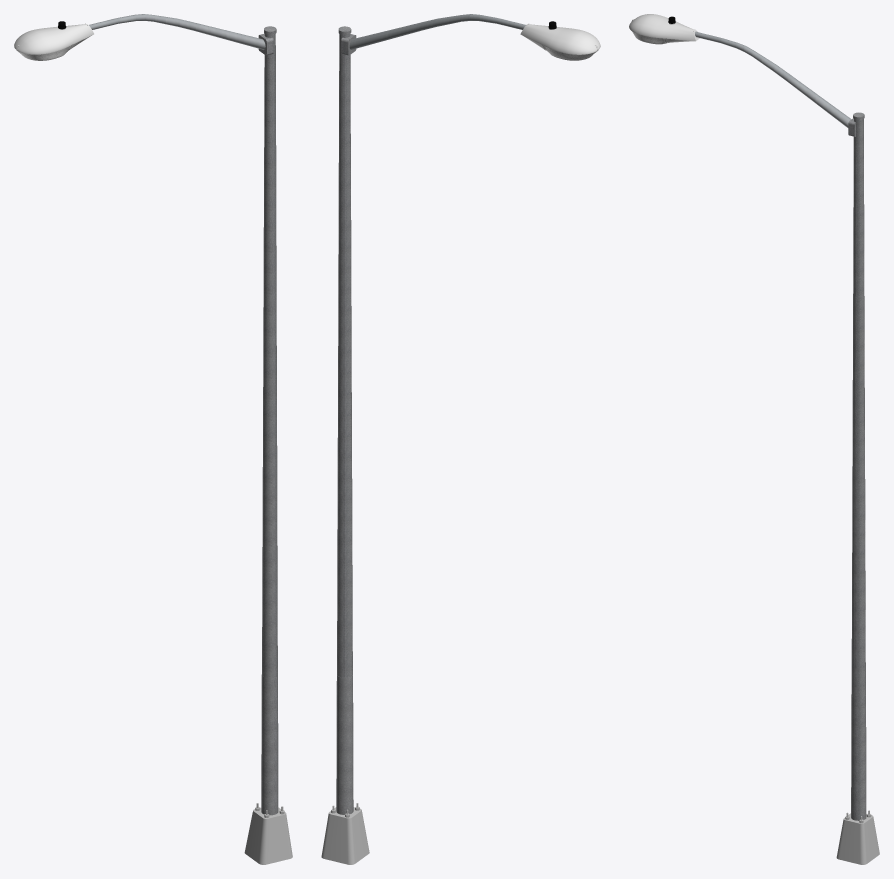
File: streetlight.fbx
3 views of the same model, side by side, from view 1: azimuth 30°, elevation 25°; view 2: azimuth 150°, elevation 25°; view 3: azimuth 330°, elevation 25° (orthographic). The views are drawn at different scales.
Visible parts, largest first — view 1: ID849, group_58, group_56, group_63; view 2: ID849, group_58, group_56, group_63; view 3: ID849, group_58, group_63, group_56.
Part boxes in pixels (box(x1,y1,x2,y2)): ID849: box(261, 26, 278, 815); group_58: box(244, 807, 292, 864); group_56: box(14, 24, 93, 54); group_63: box(89, 14, 265, 49); ID849: box(336, 26, 353, 814); group_58: box(321, 807, 369, 864); group_56: box(520, 24, 600, 54); group_63: box(349, 14, 525, 49); ID849: box(851, 112, 866, 820); group_58: box(836, 813, 879, 864); group_63: box(695, 31, 851, 127); group_56: box(629, 14, 699, 41).
Bounding box in the file's own units: 2.38 × 7.47 × 0.3408.
Materials: 27 (8 with a texture image).
